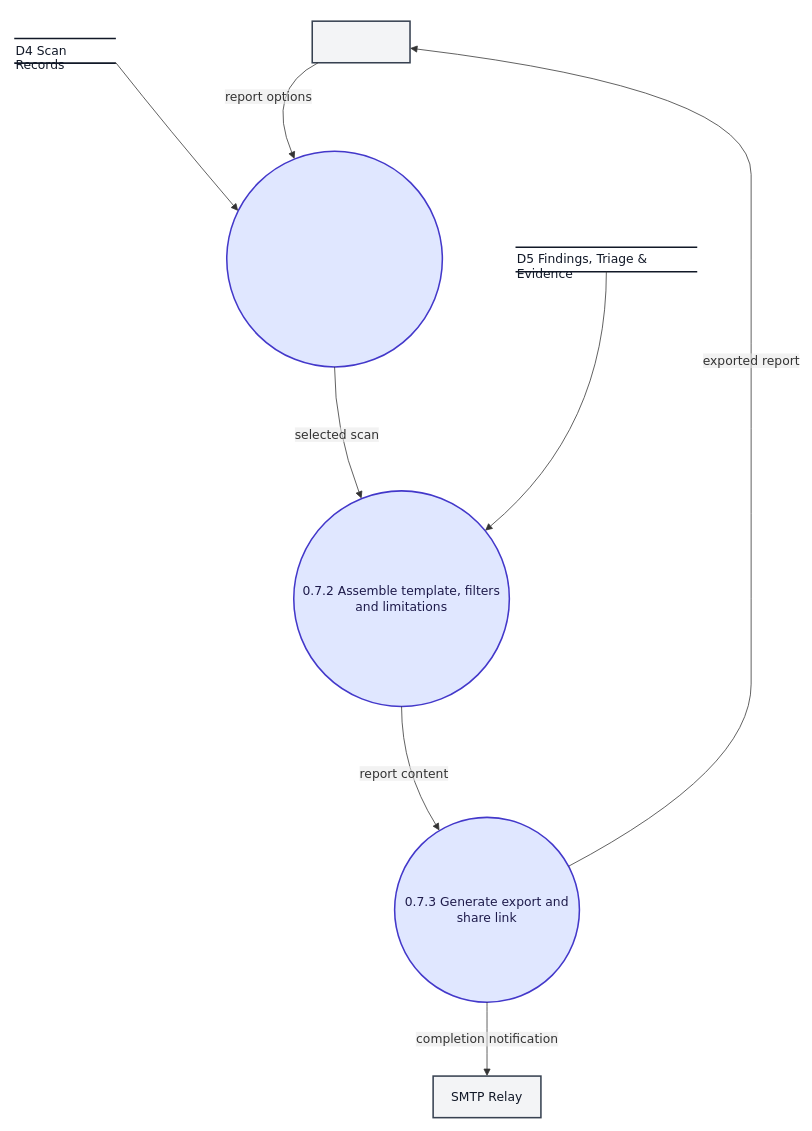
The diagram is 812 pixels wide and 1131 high, and some of its shapes have lost their labels. Here are the shapes that lost their labels. From the top down, the centre of each, then its label:
At (x=360, y=41): "WVS User".
At (x=334, y=258): "0.7.1 Select completed scan and report options".
